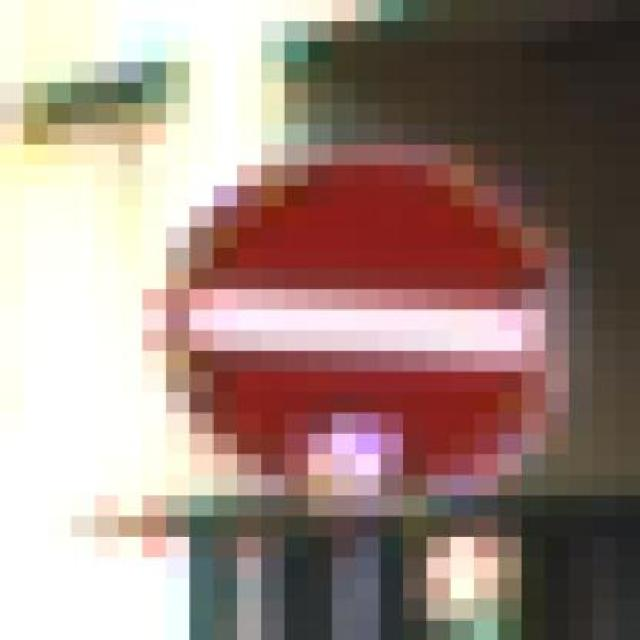No Entry: (71, 103, 617, 537)
